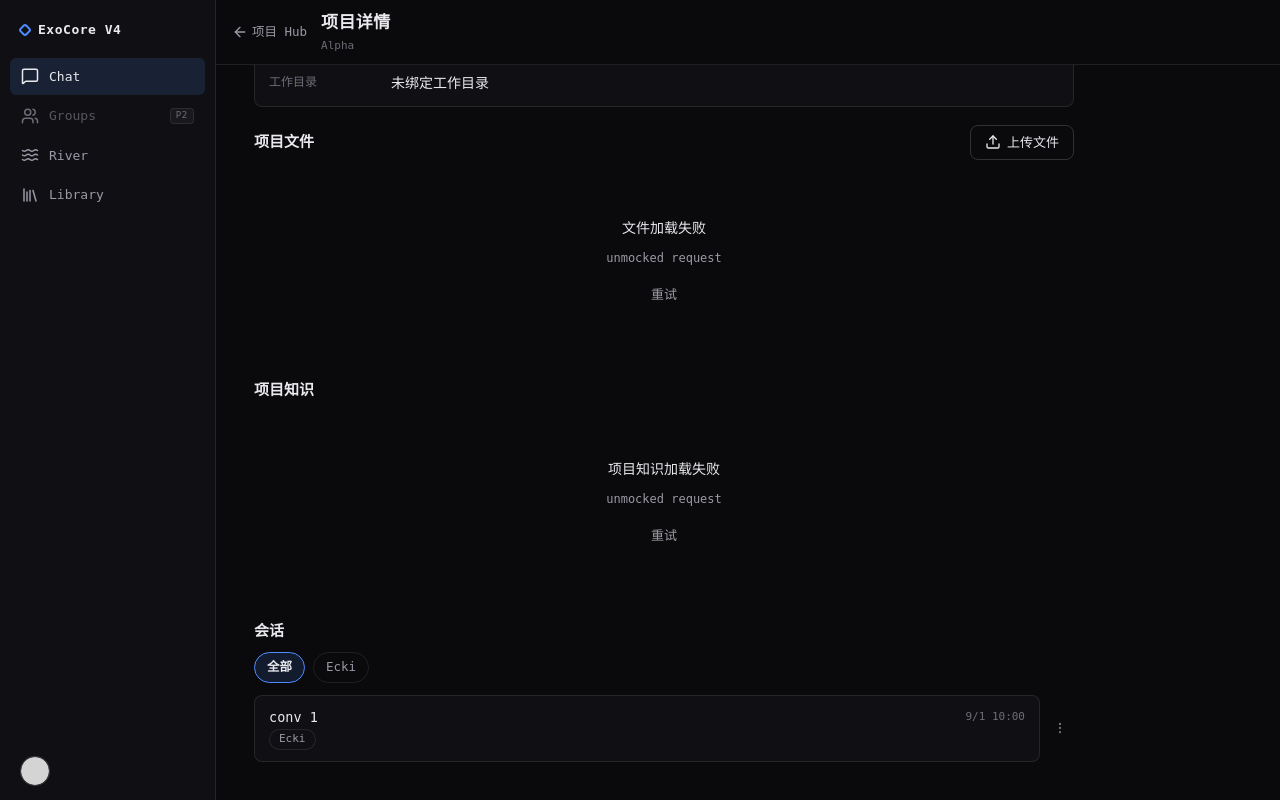
Scenario: conversation strict-parent back link (#72 U2) › returns to the Project Detail by name when entered from it
(page scrolled)
Click the link "conv 1 9/1 10:00 Ecki": (293, 717) [254,695,1040,762]
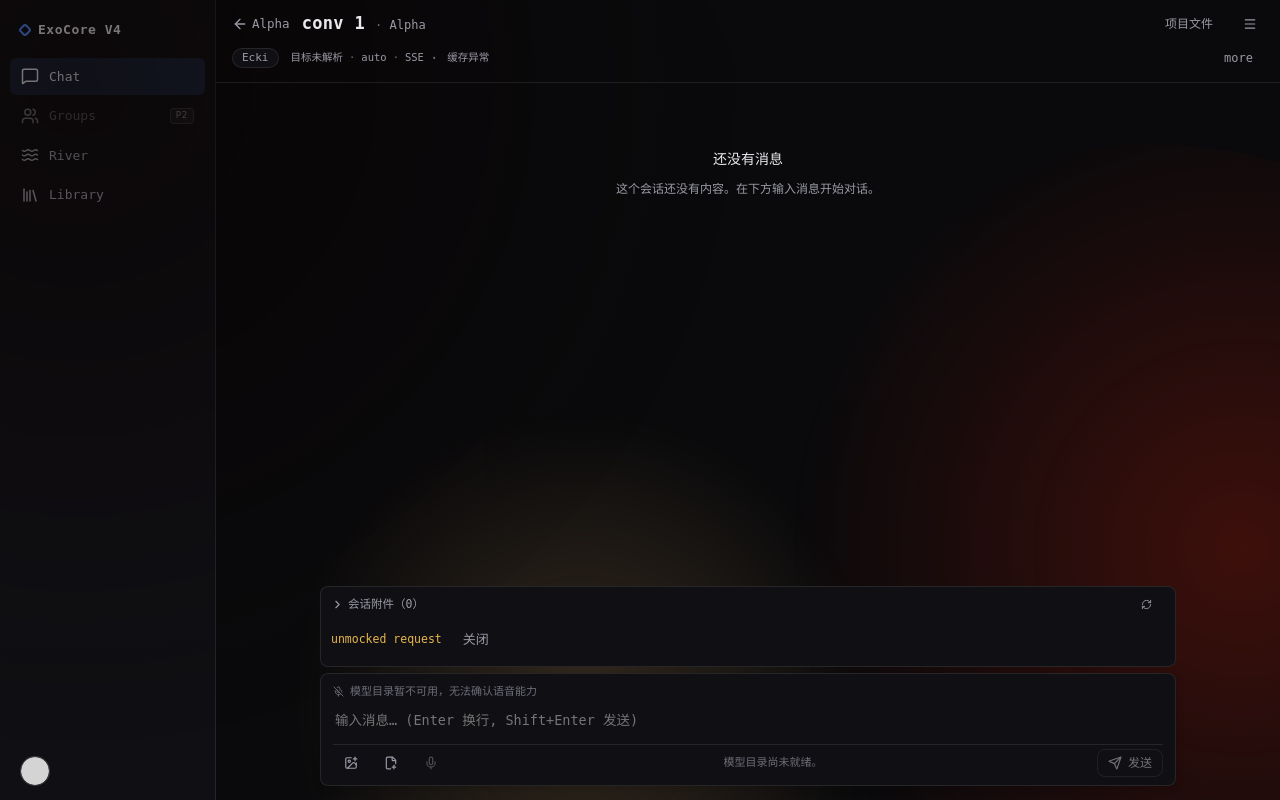
Expected: the heading "conv 1" is shown, [302,11,365,37]
Expected: the link with class "app-back-link" reads "Alpha", [232,15,290,33]
